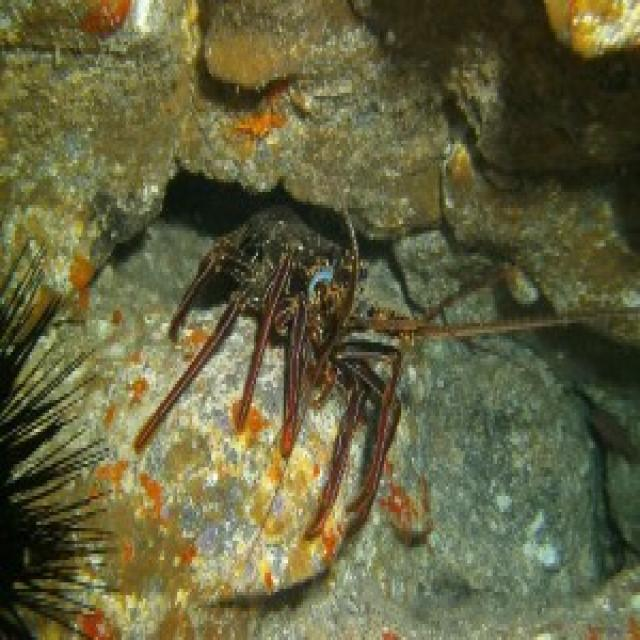lobsters: (122, 0, 596, 604)
